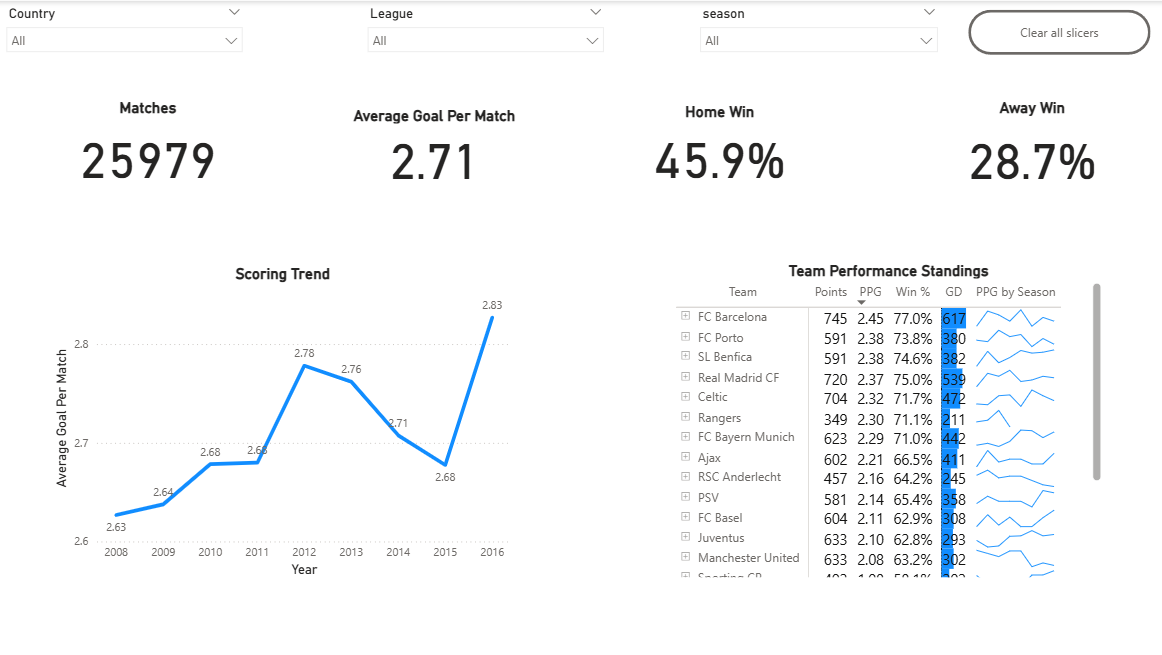

This screenshot's page, from the dashboard's own definition file:
{"tool":"powerbi","page":{"name":"League Overview","canvas":[1280,720],"ordinal":0},"visuals":[{"type":"slicer","fields":{"Values":["Country.name"]},"box":[0,0,279.7,71],"z":1000},{"type":"slicer","fields":{"Values":["League.name"]},"box":[396.5,0,279.7,71],"z":2000},{"type":"slicer","fields":{"Values":["TeamMatchFact.season"]},"box":[761,0,281,84.9],"z":3000},{"type":"card","title":"Matches","fields":{"Values":["Measures – Core.Matches (distinct)"]},"box":[30.6,107.1,271.3,104.3],"z":4000},{"type":"card","title":"Average Goal Per Match","fields":{"Values":["Measures – Core.Avg Goals per Match"]},"box":[345,115.5,271.3,89],"z":5000},{"type":"card","title":"Away Win","fields":{"Values":["Measures – Core.Away Win %"]},"box":[1011.2,106.9,250.4,105.7],"z":6000},{"type":"card","title":"Home Win","fields":{"Values":["Measures – Core.Home Win %"]},"box":[665,111.3,256,96],"z":7000},{"type":"lineChart","title":"Scoring Trend","fields":{"Y":["Measures – Core.Avg Goals per Match"],"Category":["TeamMatchFact.date.Variation.Date Hierarchy.Year","TeamMatchFact.date.Variation.Date Hierarchy.Quarter","TeamMatchFact.date.Variation.Date Hierarchy.Month","TeamMatchFact.date.Variation.Date Hierarchy.Day"]},"box":[57,289.4,512,347.8],"z":8000},{"type":"pivotTable","title":"Team Performance Standings","fields":{"Rows":["Team.team_long_name","TeamMatchFact.season"],"Values":["Measures – Core.Points","Measures – Core.Points per Game","Measures – Core.Win %","Measures – Core.Goal Difference","SparklineData(Measures – Core.Points per Game_[TeamMatchFact.season])"]},"box":[741.6,285.2,475.8,352],"z":9000},{"type":"actionButton","title":"Clear","box":[1066.2,9.6,200.3,49.4],"z":10000}]}

Visuals, with their boxes in screenshot pixels (x1, y1, x2, y2), scaled from the page's 1280x720 canvas onto the 1162x655 screenshot:
slicer - Country.name: locate(0, 0, 254, 65)
slicer - League.name: locate(360, 0, 614, 65)
slicer - TeamMatchFact.season: locate(691, 0, 946, 77)
"Matches" card: locate(28, 97, 274, 192)
"Average Goal Per Match" card: locate(313, 105, 559, 186)
"Away Win" card: locate(918, 97, 1145, 193)
"Home Win" card: locate(604, 101, 836, 189)
"Scoring Trend" lineChart: locate(52, 263, 517, 580)
"Team Performance Standings" pivotTable: locate(673, 259, 1105, 580)
"Clear" actionButton: locate(968, 9, 1150, 54)
